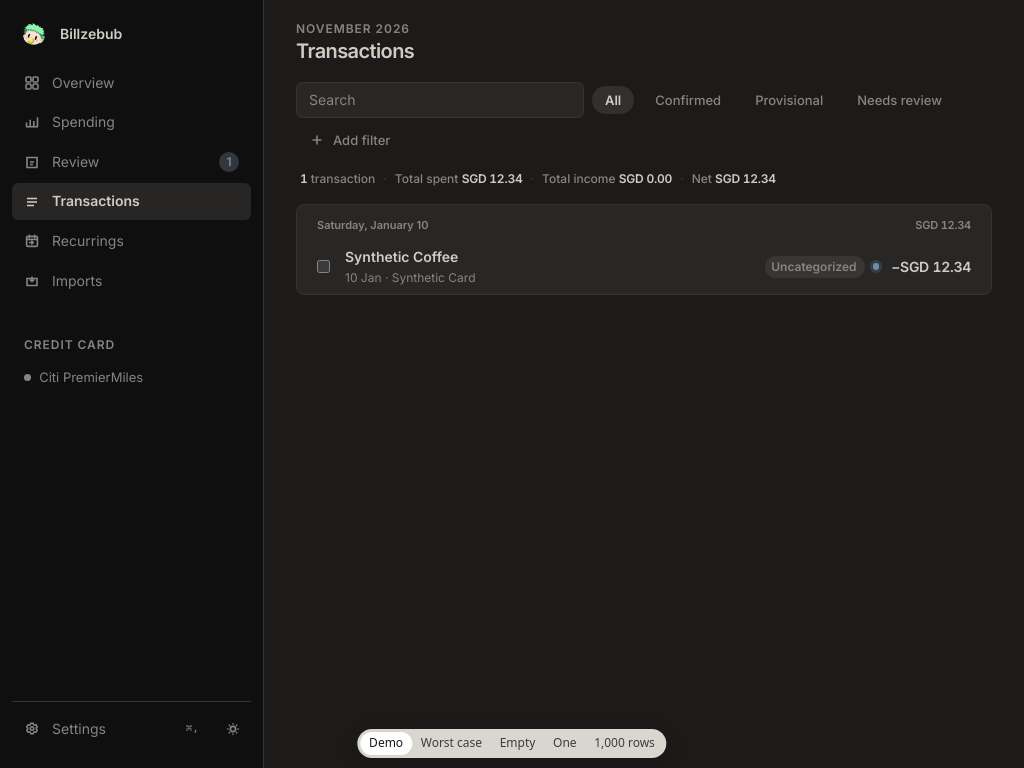
Test: App › shows Transactions with date groups, summary totals, and a bulk bar
Check: the heading "Transactions" is shown, box [296,37,414,66]
Check: the element named "Filtered totals" shows "Total spent", box [395,171,458,186]
Click the checkbox named "Select Synthetic Coffee": (324, 267) [317,260,330,273]
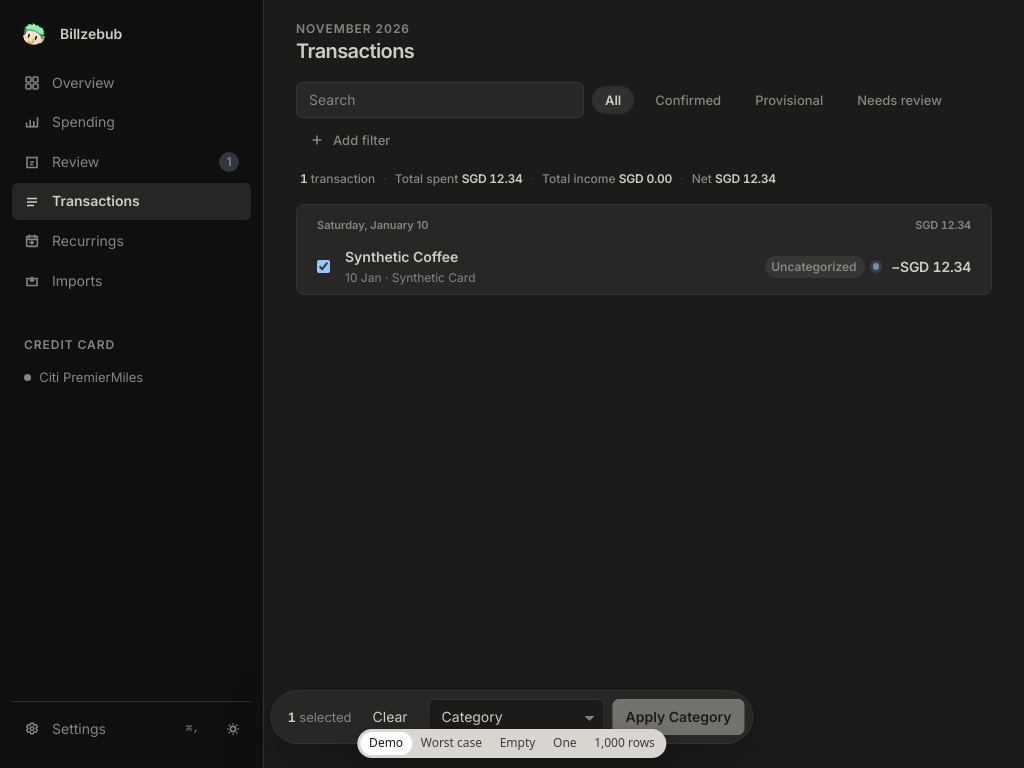
Check: the element named "Bulk actions" shows "1 selected", box [270,690,754,744]
Check: the button with aria-label "Clear selection" is shown, box [360,699,421,735]
Check: the button "Apply Category" is shown, box [613,699,745,735]
Click the button "Synthetic Coffee": (402, 257) [333,240,991,294]
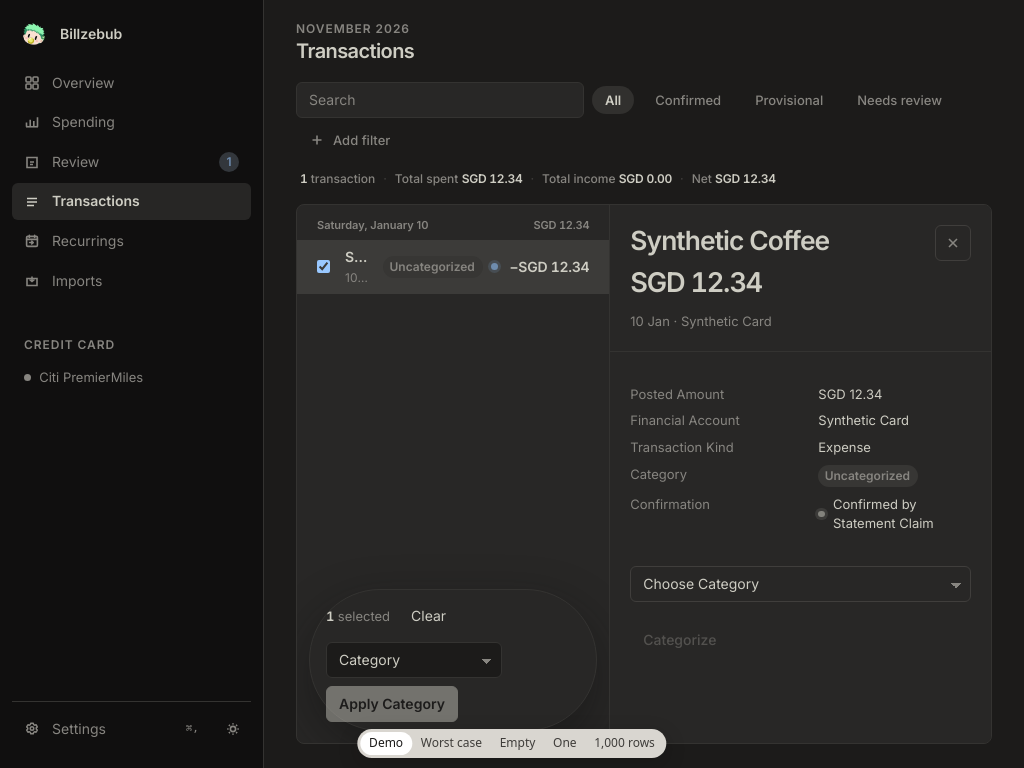
Check: the element with class "has-bulk" is shown, box [296,82,992,744]
Check: the element named "Bulk actions" is shown, box [309,589,597,731]
Check: the element "Synthetic Coffee" is shown, box [630,224,829,256]
